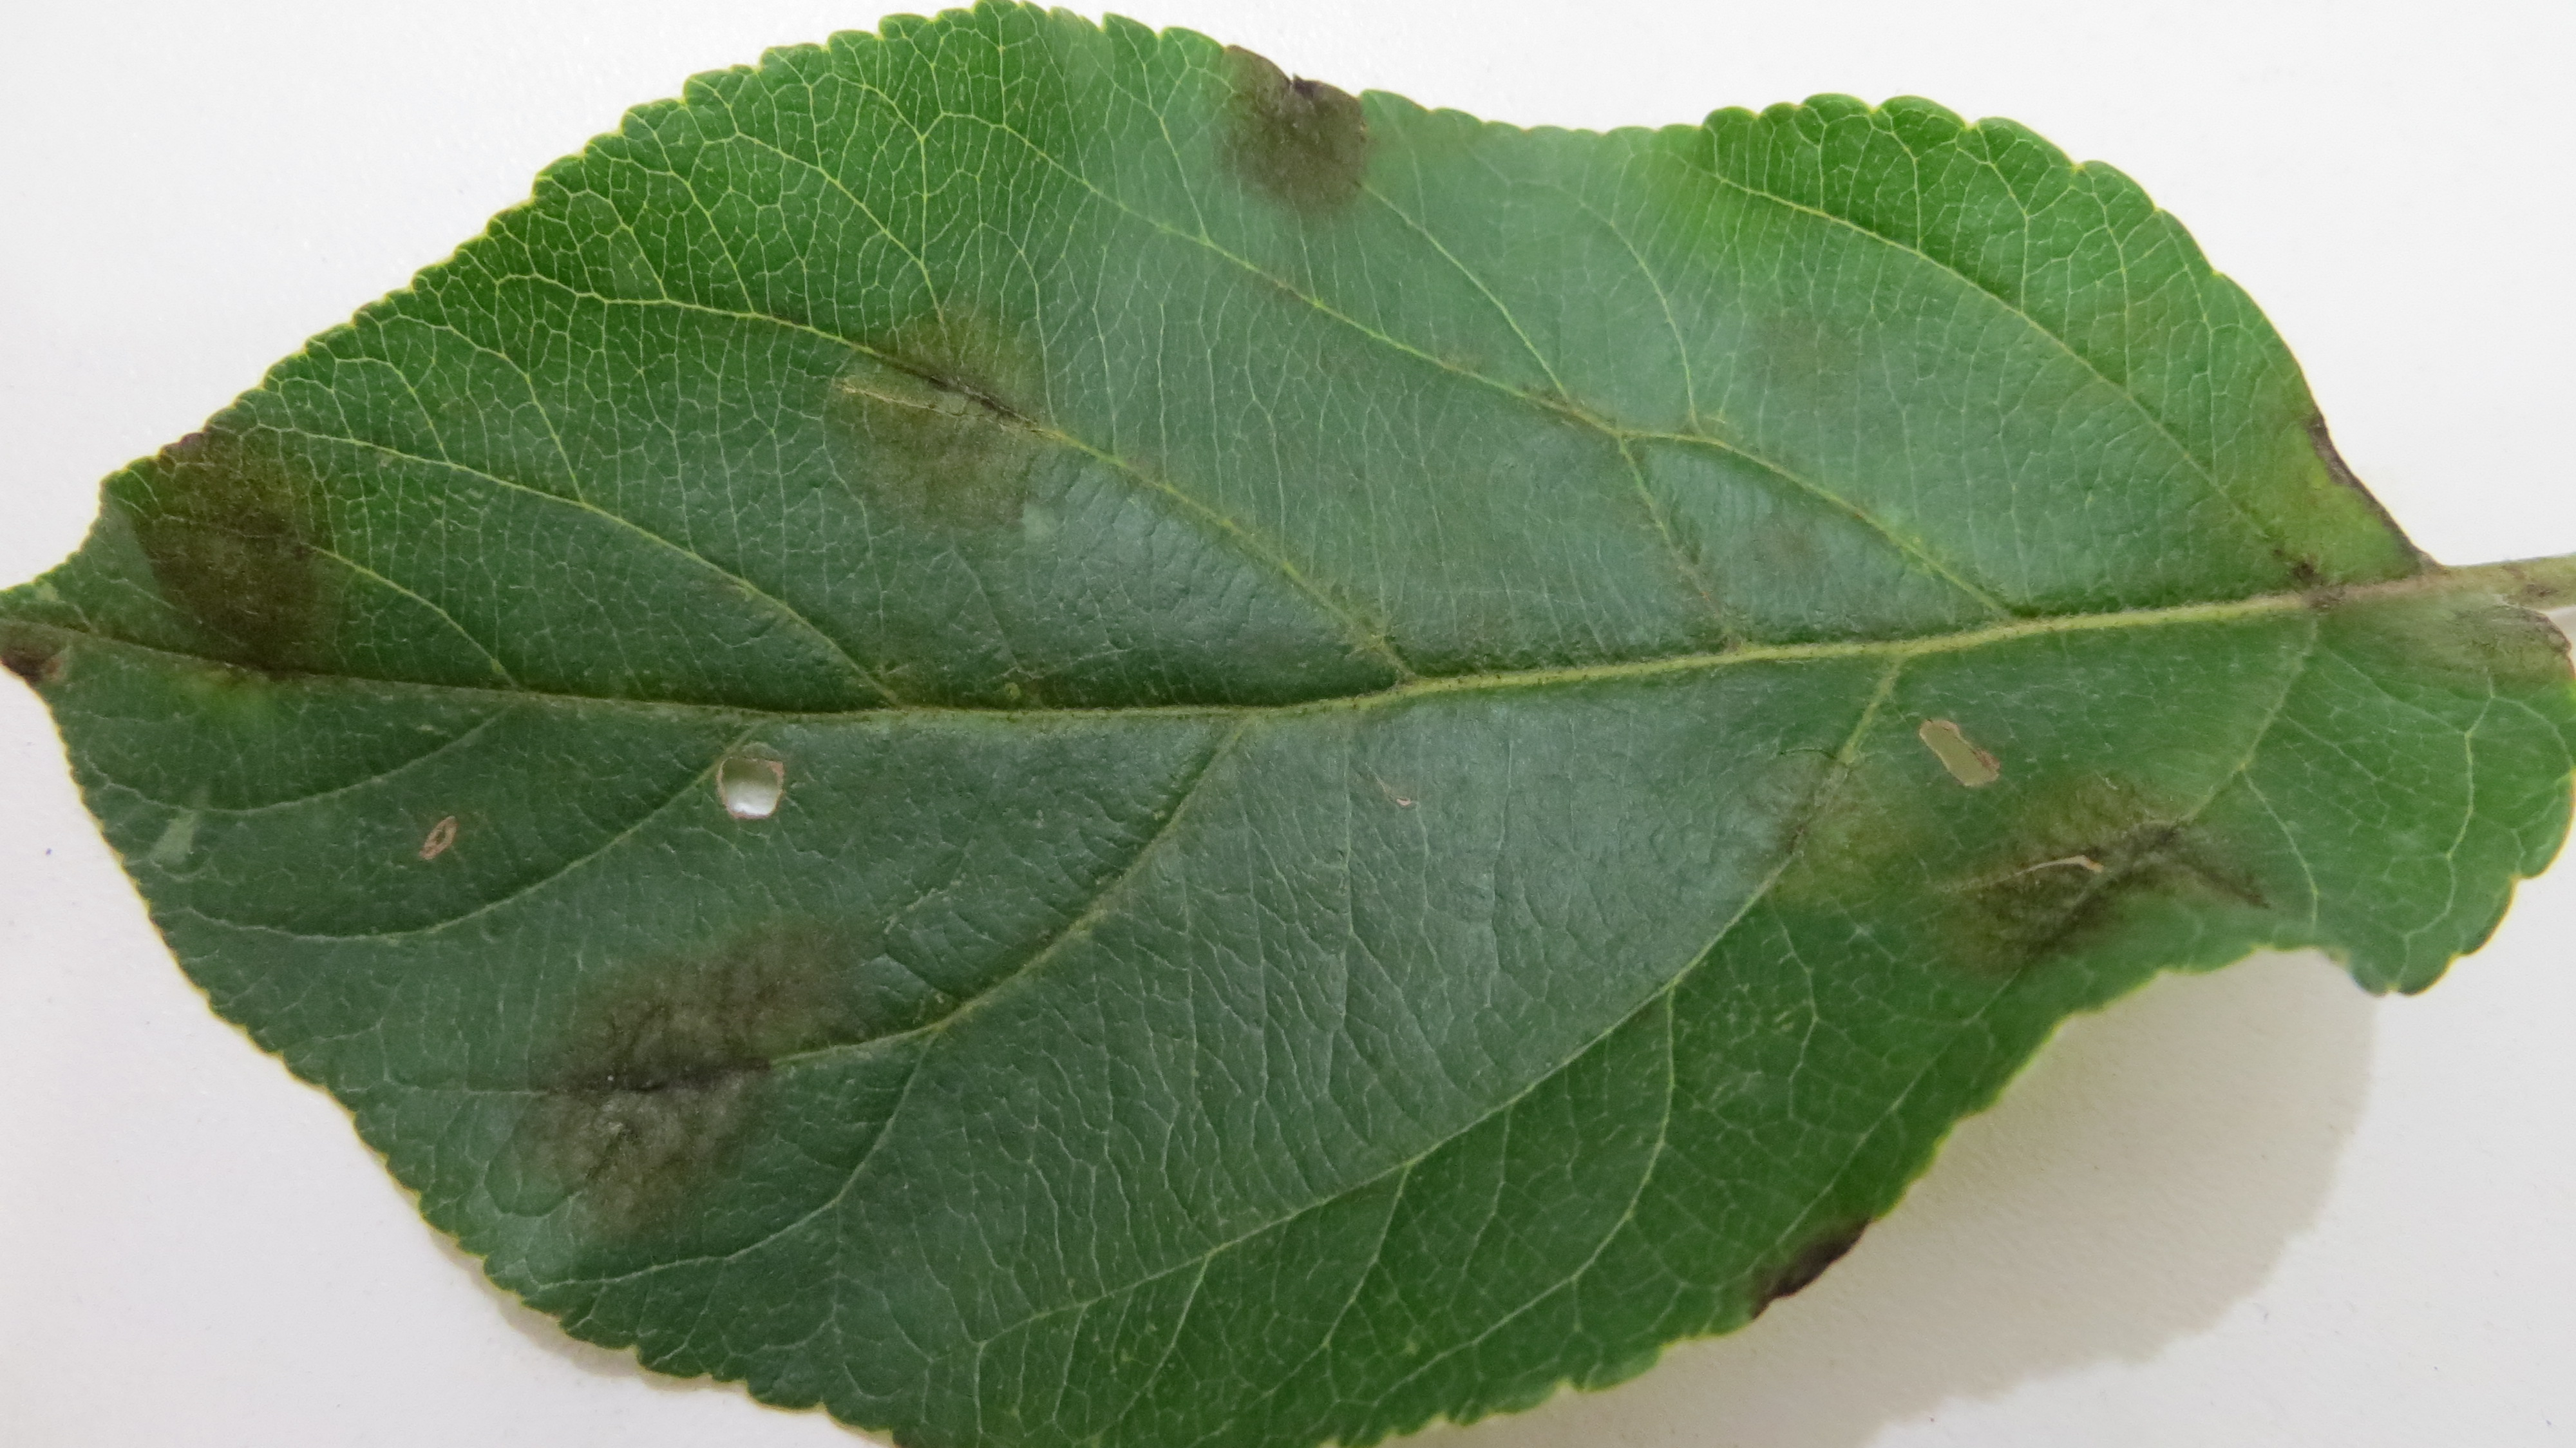sarna: (527, 905, 840, 1221), (108, 400, 356, 715), (1939, 766, 2242, 972), (823, 281, 1062, 531), (1713, 710, 1921, 920), (1207, 44, 1385, 232), (2353, 554, 2549, 696), (1744, 1177, 1884, 1310), (1729, 296, 1861, 425), (2256, 524, 2357, 648), (2291, 398, 2383, 526)
